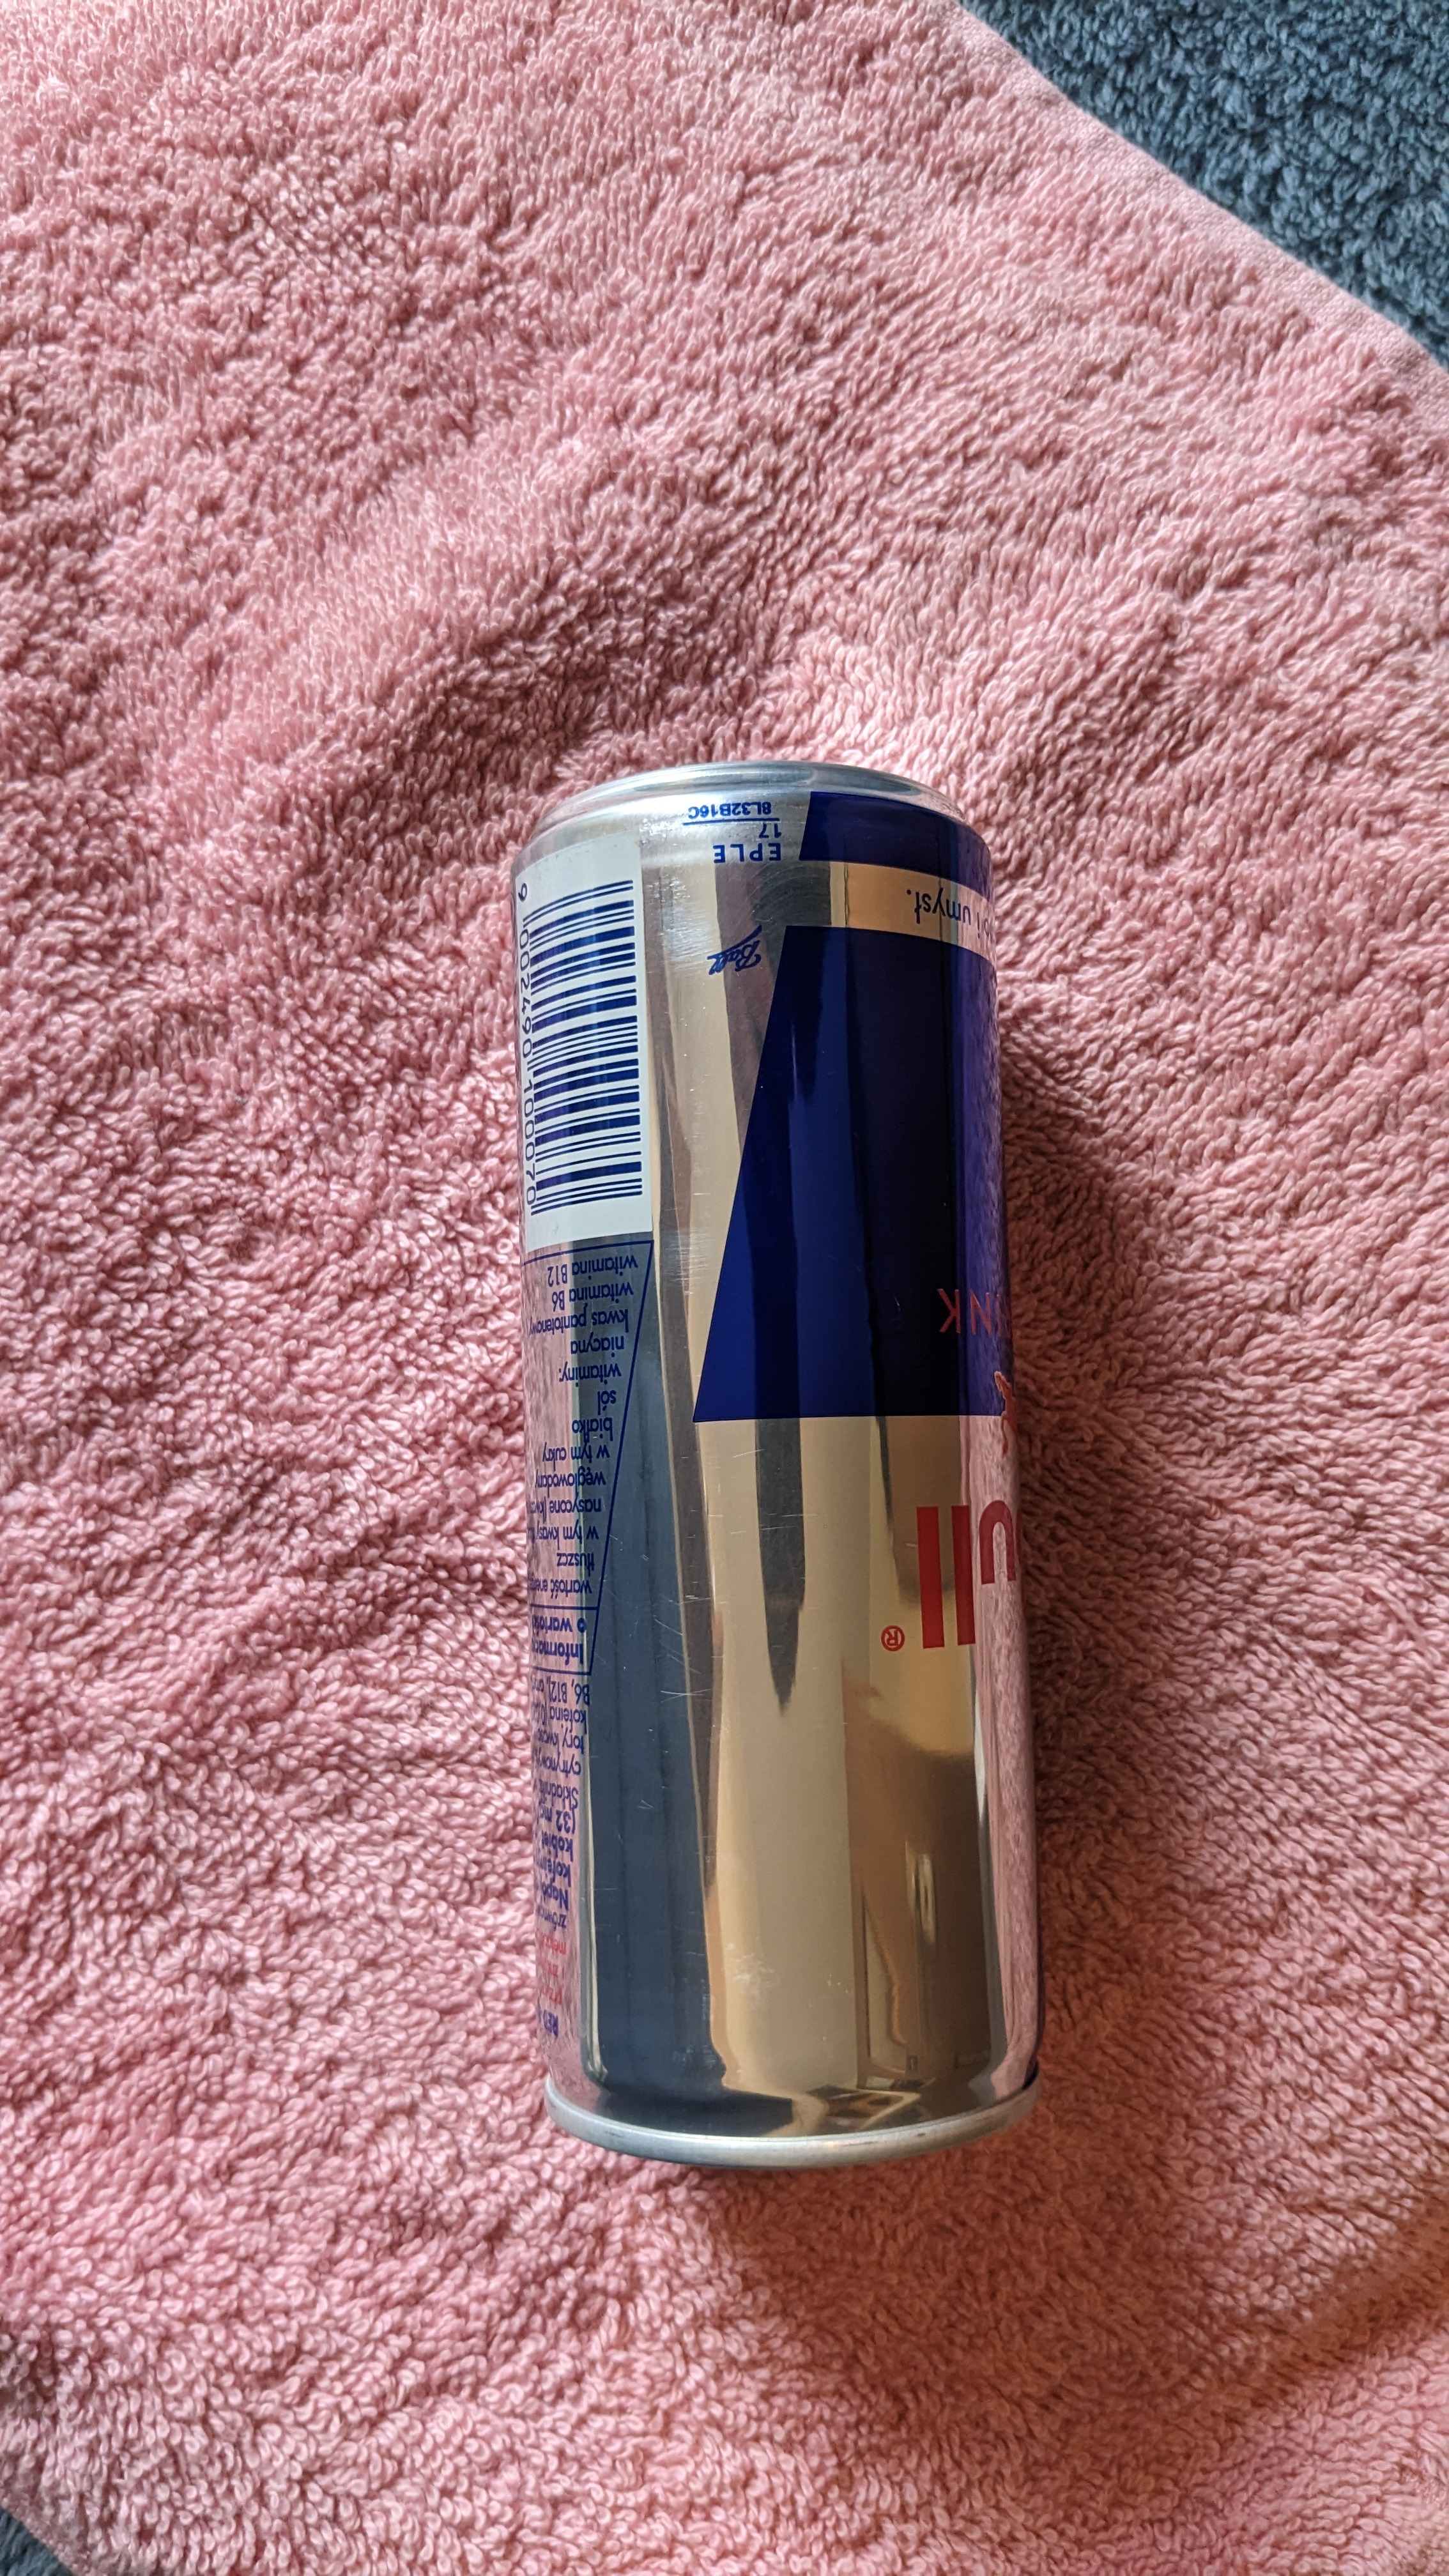red-bull: (465, 729, 1132, 2185)
